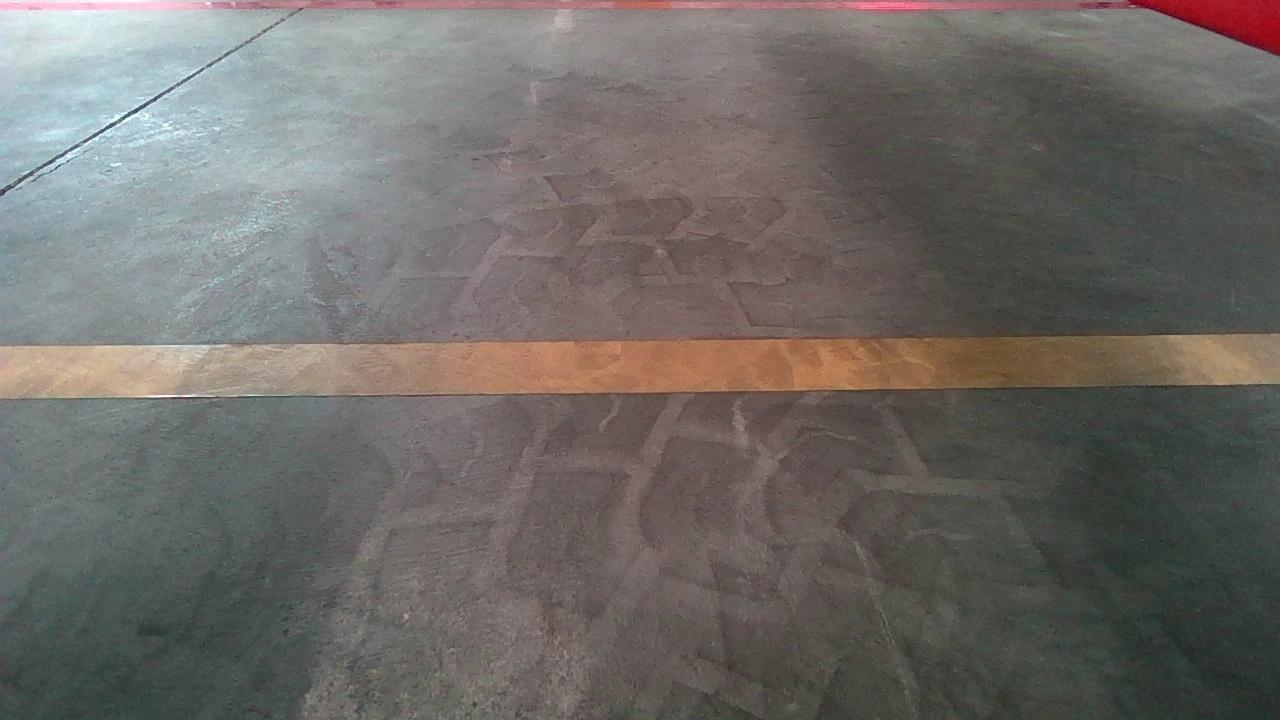yellow_line: (3, 329, 1280, 398)
